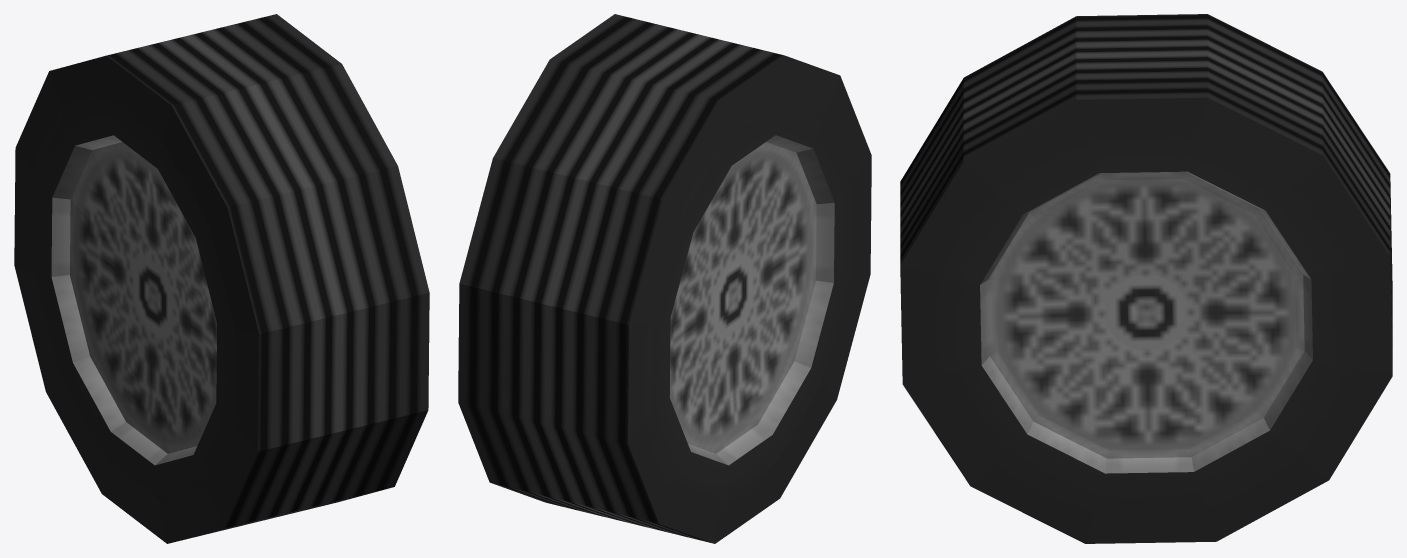
The model's file is ETK3000PreWheelA.fbx.
3 renders of one model, left to right at view 1: azimuth 30°, elevation 25°; view 2: azimuth 150°, elevation 25°; view 3: azimuth 270°, elevation 25°, orthographic.
Parts seen in each view (by area): view 1: GavrilWheel.001; view 2: GavrilWheel.001; view 3: GavrilWheel.001.
Part boxes in pixels (left/top/right/bottom): GavrilWheel.001: left=14, top=14, right=429, bottom=543; GavrilWheel.001: left=458, top=14, right=871, bottom=543; GavrilWheel.001: left=900, top=14, right=1392, bottom=543.
Bounding box in the file's own units: 0.3104 × 0.7456 × 0.7456.
